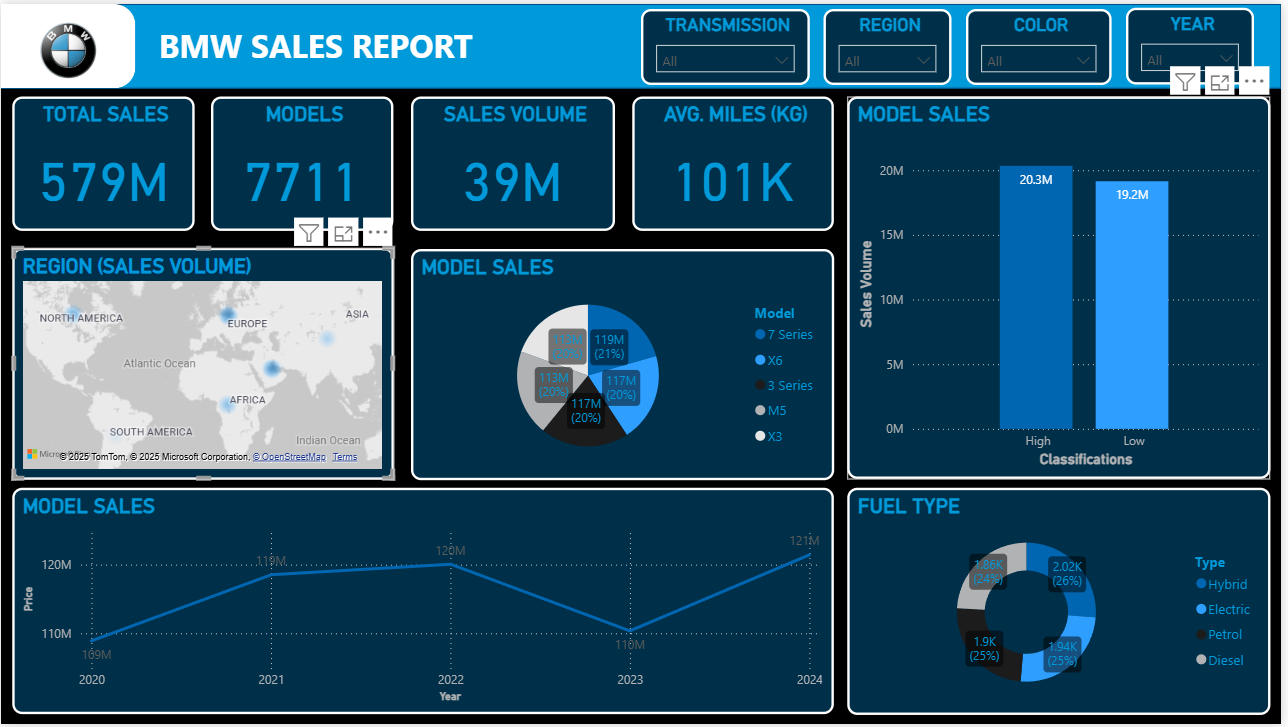

Layout of this report page (visuals, bound fields, positions):
{"tool":"powerbi","page":{"name":"Overview","canvas":[1280,720],"ordinal":0},"visuals":[{"type":"shape","title":"LogoBBg","box":[0,0,1280.3,84.6],"z":0},{"type":"shape","title":"LogoWBg","box":[0,0,134.5,84.4],"z":1000},{"type":"image","title":"Logo","box":[0,0,134.5,93.3],"z":2000},{"type":"map","title":"REGION (SALES VOLUME)","fields":{"Category":["BMW sales data (2010-2024).Region"],"Size":["Sum(BMW sales data (2010-2024).Sales_Volume)"]},"box":[11,243.3,381.5,232.3],"z":3000},{"type":"textbox","box":[134.3,14.8,370.8,88.7],"z":4000},{"type":"pieChart","title":"MODEL SALES","fields":{"Category":["BMW sales data (2010-2024).Model"],"Y":["Sum(BMW sales data (2010-2024).Price_USD)"]},"box":[409.6,244.6,423.1,231.1],"z":5000},{"type":"card","title":"MODELS","fields":{"Values":["CountNonNull(BMW sales data (2010-2024).Model)"]},"box":[210.3,92.9,182.2,134.5],"z":6000},{"type":"card","title":"TOTAL SALES","fields":{"Values":["Sum(BMW sales data (2010-2024).Price_USD)"]},"box":[11,92.9,182.2,134.5],"z":7000},{"type":"card","title":"SALES VOLUME ","fields":{"Values":["Sum(BMW sales data (2010-2024).Sales_Volume)"]},"box":[409.6,92.9,204.2,134.5],"z":8000},{"type":"slicer","title":"REGION","fields":{"Values":["BMW sales data (2010-2024).Region"]},"box":[822.7,4.9,128.4,75.8],"z":9000},{"type":"slicer","title":"TRANSMISSION","fields":{"Values":["BMW sales data (2010-2024).Transmission"]},"box":[639.5,4.9,168.8,75.8],"z":10000},{"type":"slicer","title":"COLOR","fields":{"Values":["BMW sales data (2010-2024).Color"]},"box":[965.5,4.9,145.5,75.8],"z":11000},{"type":"slicer","title":"YEAR","fields":{"Values":["BMW sales data (2010-2024).Year"]},"box":[1125,3.7,128.4,77],"z":12000},{"type":"card","title":"AVG. MILES (KG) ","fields":{"Values":["Avg(BMW sales data (2010-2024).Mileage_KM)"]},"box":[631,92.9,201.8,134.5],"z":13000},{"type":"columnChart","title":"MODEL SALES","fields":{"Category":["BMW sales data (2010-2024).Sales_Classification"],"Y":["Sum(BMW sales data (2010-2024).Sales_Volume)"]},"box":[846.2,92.9,423.1,382.7],"z":14000},{"type":"lineChart","title":"MODEL SALES","fields":{"Y":["Sum(BMW sales data (2010-2024).Price_USD)"],"Category":["BMW sales data (2010-2024).Year"]},"box":[11,484.2,821.7,226.2],"z":15000},{"type":"donutChart","title":"FUEL TYPE","fields":{"Category":["BMW sales data (2010-2024).Fuel_Type"],"Y":["CountNonNull(BMW sales data (2010-2024).Fuel_Type)"]},"box":[846.2,489.1,423.1,221.3],"z":16000}]}

Visuals, with their boxes in screenshot pixels (x1, y1, x2, y2), scaled from the page's 1280x720 canvas onto the 1288x727 screenshot:
"LogoBBg" shape: detection(0, 0, 1287, 85)
"LogoWBg" shape: detection(0, 0, 135, 85)
"Logo" image: detection(0, 0, 135, 94)
"REGION (SALES VOLUME)" map: detection(11, 246, 395, 480)
textbox: detection(135, 15, 508, 105)
"MODEL SALES" pieChart: detection(412, 247, 838, 480)
"MODELS" card: detection(212, 94, 395, 230)
"TOTAL SALES" card: detection(11, 94, 194, 230)
"SALES VOLUME " card: detection(412, 94, 618, 230)
"REGION" slicer: detection(828, 5, 957, 81)
"TRANSMISSION" slicer: detection(643, 5, 813, 81)
"COLOR" slicer: detection(972, 5, 1118, 81)
"YEAR" slicer: detection(1132, 4, 1261, 81)
"AVG. MILES (KG) " card: detection(635, 94, 838, 230)
"MODEL SALES" columnChart: detection(851, 94, 1277, 480)
"MODEL SALES" lineChart: detection(11, 489, 838, 717)
"FUEL TYPE" donutChart: detection(851, 494, 1277, 717)
